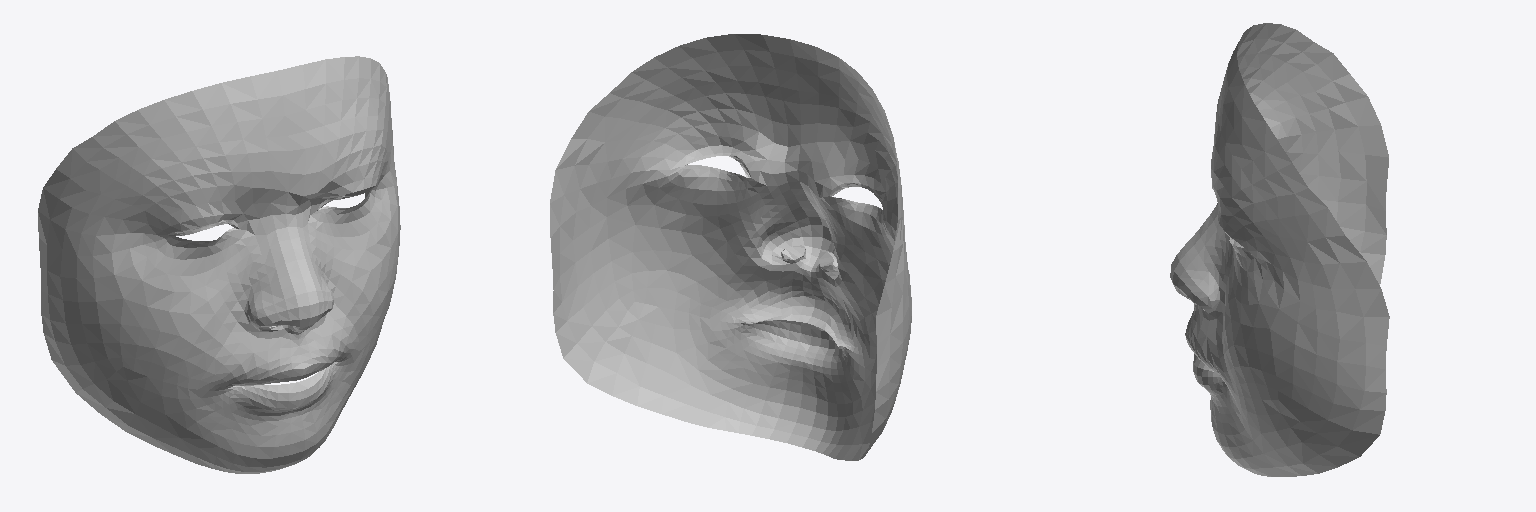
The model's file is browDown_L.obj.
3 renders of one model, left to right at view 1: azimuth 30°, elevation 25°; view 2: azimuth 150°, elevation 25°; view 3: azimuth 270°, elevation 25°, orthographic.
Visible parts, largest first — view 1: default; view 2: default; view 3: default.
Boxes of the visible parts, x1=… form: default: x1=38, y1=56, x2=400, y2=473; default: x1=550, y1=34, x2=911, y2=460; default: x1=1170, y1=23, x2=1389, y2=476.
Bounding box in the file's own units: 0.1624 × 0.1847 × 0.0913.